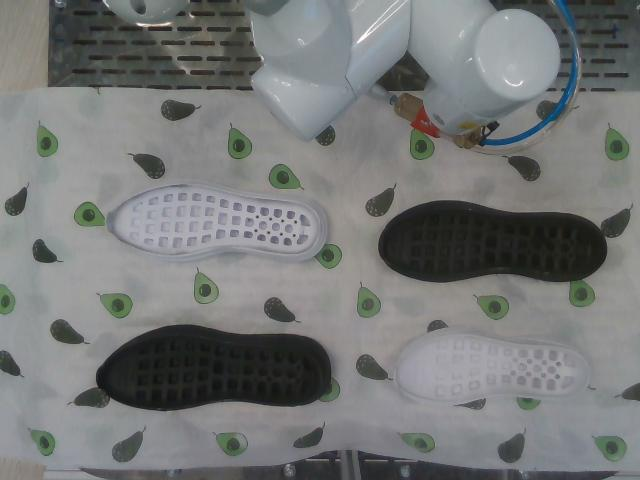shoes: (98, 335, 320, 408), (107, 184, 319, 255), (381, 209, 605, 275), (396, 333, 590, 403)
